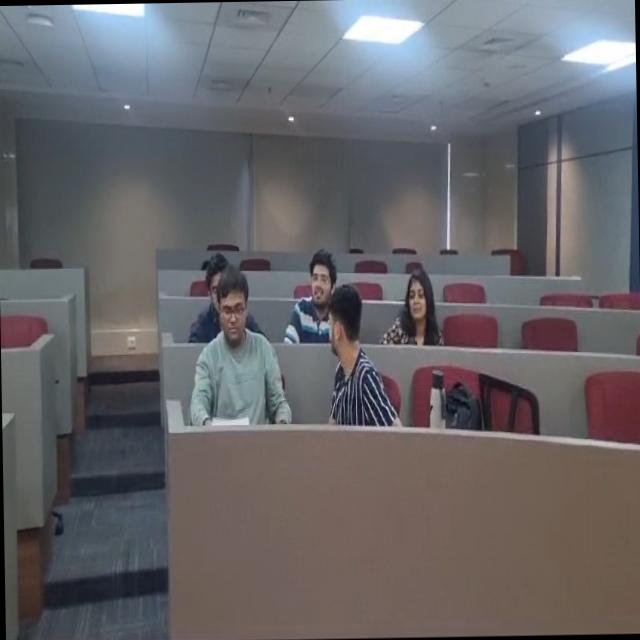non-cheating: (180, 73, 214, 222)
